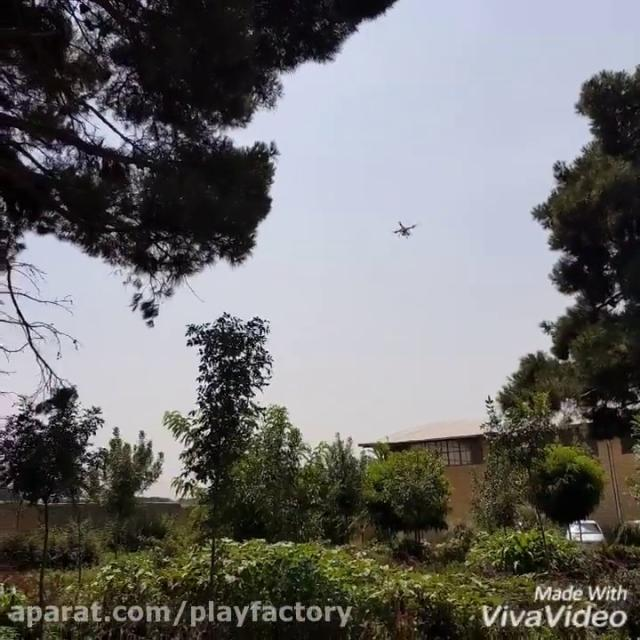drone: (390, 214, 419, 239)
